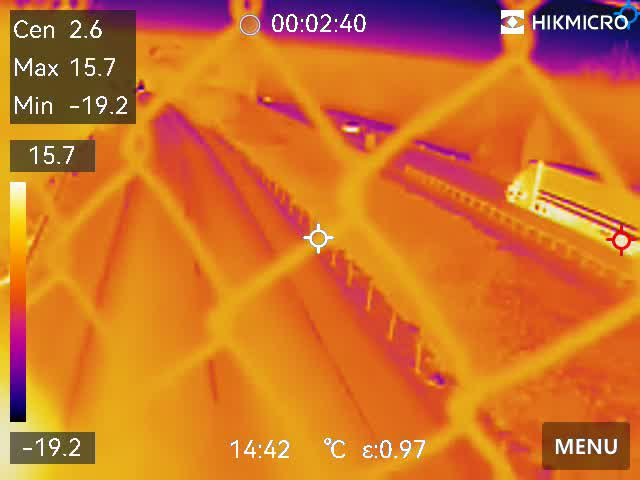heavyTruck: (503, 139, 636, 262)
vehicle: (335, 119, 360, 136)
